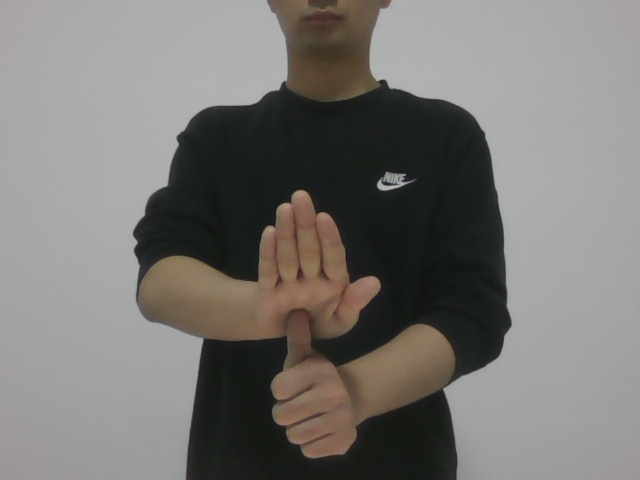love: (242, 173, 389, 463)
